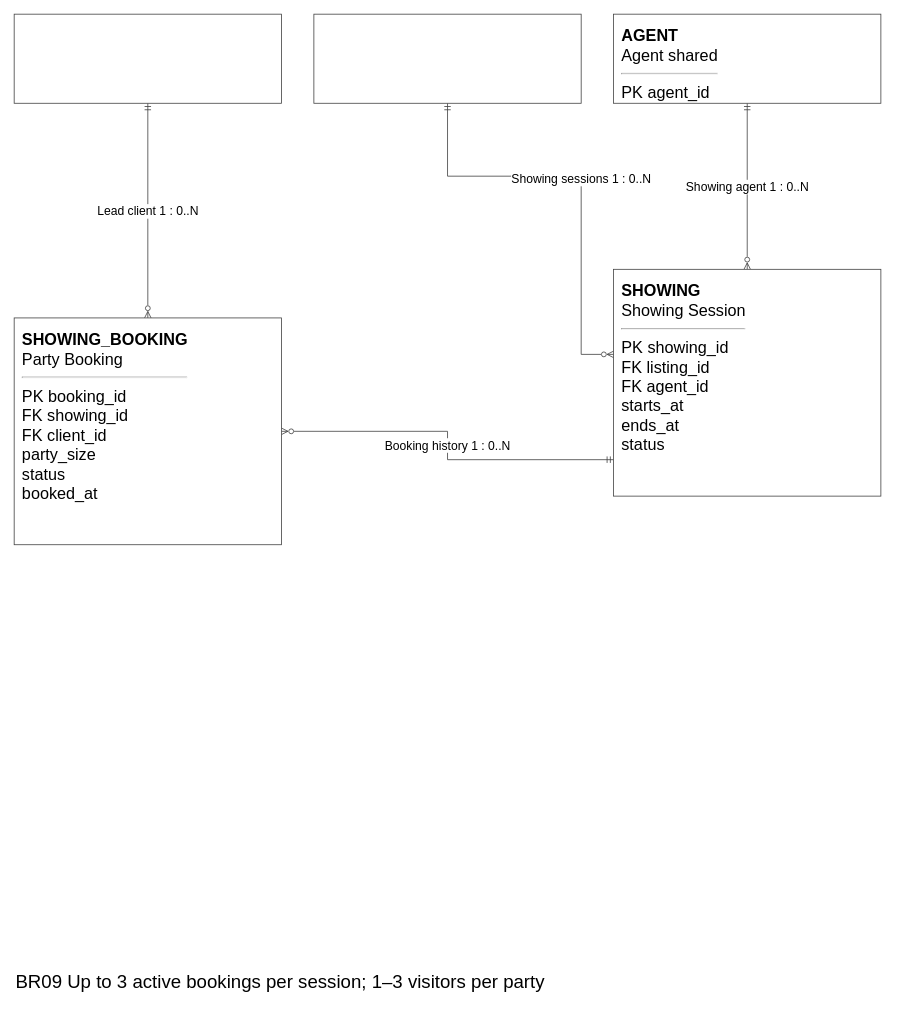
Some shapes in this 911 by 1013 pixel diagram are drawn without their labels. Here are the shapes that lost their labels. From the top down, the centre of each, then its label:
At point (147, 58): "CLIENT Client shared PK client_id".
At point (447, 58): "LISTING Listing shared PK listing_id".
